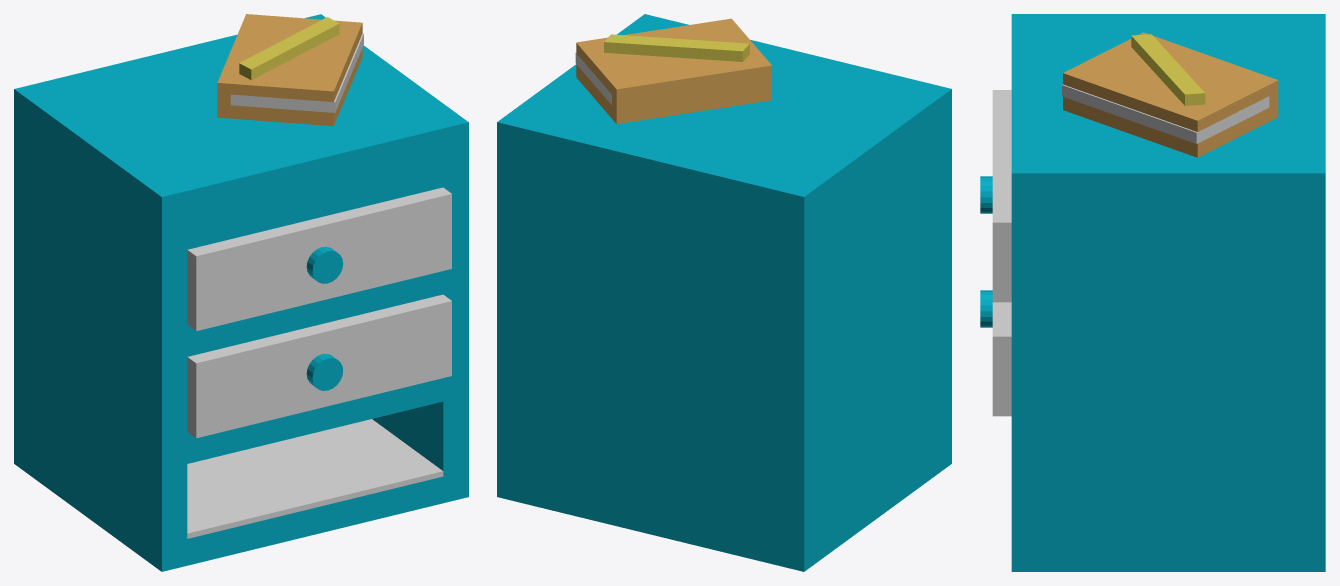
File: Project149_Table.glb
3 renders of one model, left to right at view 1: azimuth 30°, elevation 25°; view 2: azimuth 150°, elevation 25°; view 3: azimuth 270°, elevation 25°, orthographic. The views are drawn at different scales.
Visible parts, largest first — view 1: Mesh_Mesh_head_geo.001_lambert2SG.001; view 2: Mesh_Mesh_head_geo.001_lambert2SG.001; view 3: Mesh_Mesh_head_geo.001_lambert2SG.001.
Boxes of the visible parts, <box> form: Mesh_Mesh_head_geo.001_lambert2SG.001: <box>14,14,468,571</box>; Mesh_Mesh_head_geo.001_lambert2SG.001: <box>497,14,951,571</box>; Mesh_Mesh_head_geo.001_lambert2SG.001: <box>980,14,1325,571</box>.
Bounding box in the file's own units: 60 × 79.5 × 55.
